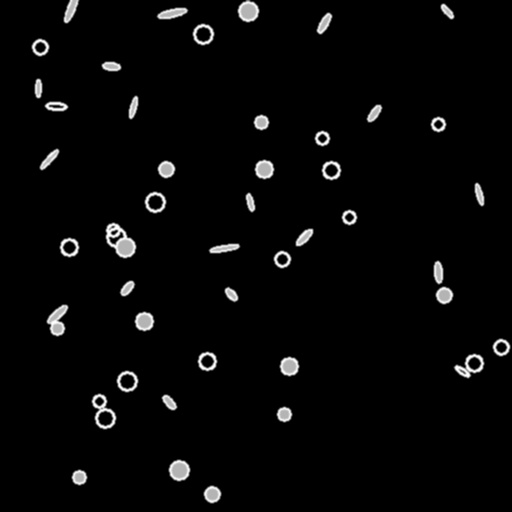pseudomonas: (45, 303, 69, 325), (39, 149, 59, 169), (157, 7, 187, 19), (316, 12, 332, 34), (63, 0, 79, 22), (295, 228, 313, 246), (209, 243, 239, 253), (366, 104, 382, 122), (223, 286, 239, 302), (119, 280, 135, 296), (454, 364, 470, 378), (440, 3, 454, 19), (162, 394, 176, 410), (474, 183, 484, 205), (128, 97, 138, 117), (45, 102, 67, 110), (434, 262, 442, 282), (246, 194, 254, 210), (103, 62, 119, 70), (35, 79, 41, 97)
synechocystis: (118, 372, 136, 390), (146, 193, 164, 211), (239, 2, 257, 20), (96, 409, 114, 427), (107, 228, 125, 246), (170, 461, 188, 479), (194, 25, 212, 43), (116, 238, 134, 256), (61, 239, 77, 255), (466, 355, 482, 371), (323, 162, 339, 178), (281, 358, 297, 374), (256, 161, 272, 177), (136, 313, 152, 329), (199, 353, 215, 369), (159, 162, 173, 176), (437, 288, 451, 302), (275, 252, 289, 266), (33, 40, 47, 54), (205, 487, 219, 501), (494, 340, 508, 354), (343, 211, 355, 223), (107, 224, 119, 236), (73, 471, 85, 483), (316, 132, 328, 144), (93, 395, 105, 407), (278, 408, 290, 420), (51, 322, 63, 334), (432, 118, 444, 130), (255, 116, 267, 128)
